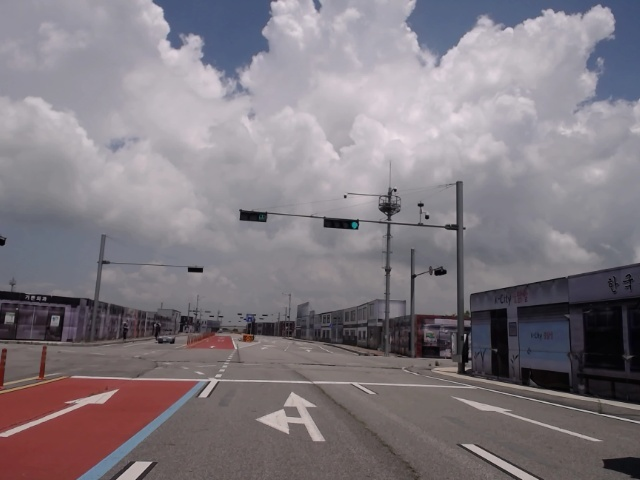straight_green_4: (324, 217, 359, 230)
